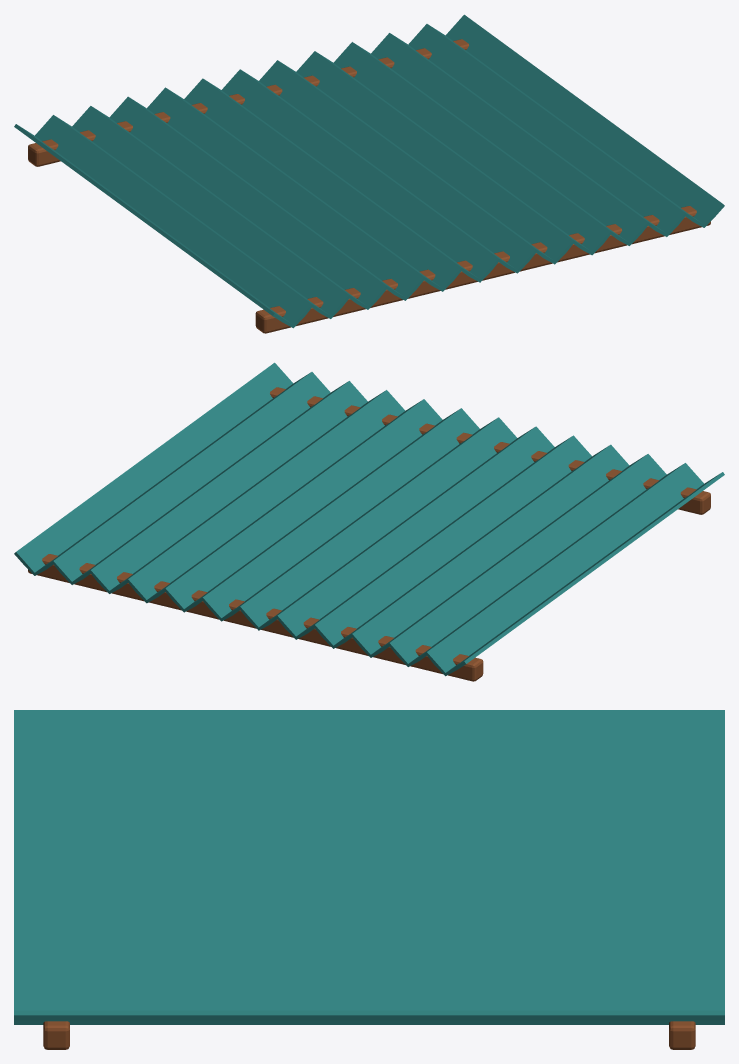
The model's file is SM_MetalRoof_200.fbx.
The picture shows the model from 3 angles, top to bottom: view 1: azimuth 30°, elevation 25°; view 2: azimuth 150°, elevation 25°; view 3: azimuth 270°, elevation 25°; orthographic projection. The views are drawn at different scales.
Visible parts, largest first — view 1: SM_MetalRoof_200; view 2: SM_MetalRoof_200; view 3: SM_MetalRoof_200.
Part boxes in pixels (<box>): SM_MetalRoof_200: <box>14,14,724,333</box>; SM_MetalRoof_200: <box>14,362,724,681</box>; SM_MetalRoof_200: <box>14,710,724,1049</box>.
Size of what is drawn, in the model's own units: 2.02 by 2 by 0.1275.
